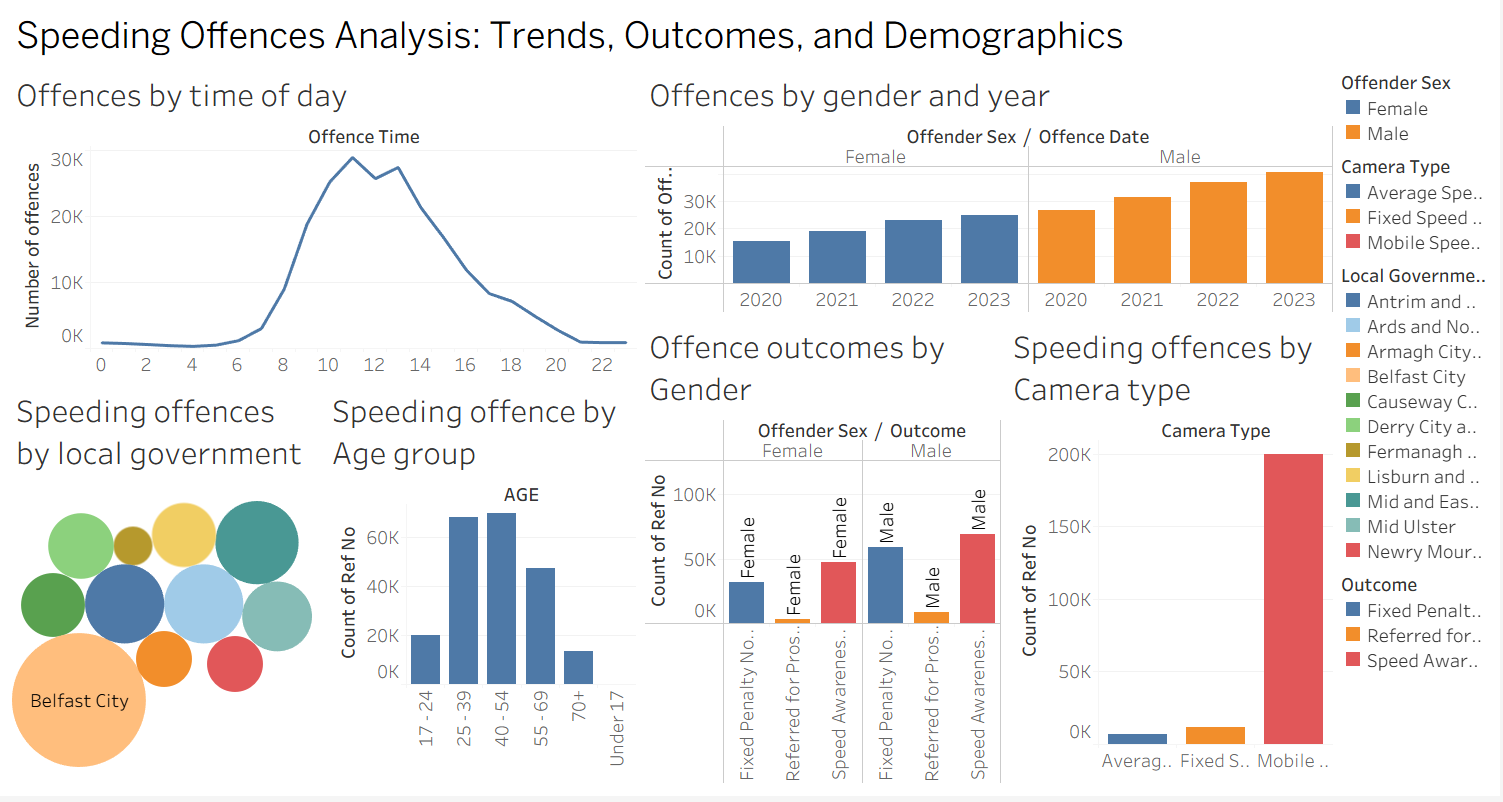

What the dashboard file says about the page in this screenshot:
{"tool":"tableau","page":{"name":"Speeding Offences Analysis","canvas":[1500,800],"ordinal":0},"visuals":[{"type":"title","box":[8,8,1484,61]},{"type":"worksheet","title":"Sheet 1","mark":"Automatic","rows":["RefNo"],"cols":["OffenceTime"],"box":[8,69,633,316]},{"type":"worksheet","title":"Sheet 3","mark":"Bar","rows":["RefNo"],"cols":["offender_sex","OffenceDate"],"box":[641,69,696,251.7]},{"type":"legend","title":"Sheet 3","param":"[federated.11ky8x30n1p5a01ab4k271v5vsq4].[none:offender_sex:nk]","box":[1337,69,155,84]},{"type":"legend","title":"Sheet 5","param":"[federated.11ky8x30n1p5a01ab4k271v5vsq4].[none:CameraType:nk]","box":[1337,153,155,109]},{"type":"legend","title":"Sheet 2","param":"[federated.11ky8x30n1p5a01ab4k271v5vsq4].[none:Local Government District:nk]","box":[1337,262,155,309]},{"type":"worksheet","title":"Sheet 6","mark":"Automatic","rows":["RefNo"],"cols":["offender_sex","Outcome"],"box":[641,320.7,364,471.3]},{"type":"worksheet","title":"Sheet 5","mark":"Automatic","rows":["RefNo"],"cols":["CameraType"],"box":[1005,320.7,332,471.3]},{"type":"worksheet","title":"Sheet 2","mark":"Circle","box":[8,385,316.5,407]},{"type":"worksheet","title":"Sheet 4","mark":"Automatic","rows":["RefNo"],"cols":["AGE"],"box":[324.5,385,316.5,407]},{"type":"legend","title":"Sheet 6","param":"[federated.11ky8x30n1p5a01ab4k271v5vsq4].[none:Outcome:nk]","box":[1337,571,155,109]}]}

Visuals, with their boxes in screenshot pixels (x1, y1, x2, y2), scaled from the page's 1500x800 canvas onto the 1503x802 screenshot:
title: <bbox>8, 8, 1495, 69</bbox>
"Sheet 1" worksheet: <bbox>8, 69, 642, 386</bbox>
"Sheet 3" worksheet (Bar marks): <bbox>642, 69, 1340, 322</bbox>
"Sheet 3" legend: <bbox>1340, 69, 1495, 153</bbox>
"Sheet 5" legend: <bbox>1340, 153, 1495, 263</bbox>
"Sheet 2" legend: <bbox>1340, 263, 1495, 572</bbox>
"Sheet 6" worksheet: <bbox>642, 322, 1007, 794</bbox>
"Sheet 5" worksheet: <bbox>1007, 322, 1340, 794</bbox>
"Sheet 2" worksheet (Circle marks): <bbox>8, 386, 325, 794</bbox>
"Sheet 4" worksheet: <bbox>325, 386, 642, 794</bbox>
"Sheet 6" legend: <bbox>1340, 572, 1495, 682</bbox>
